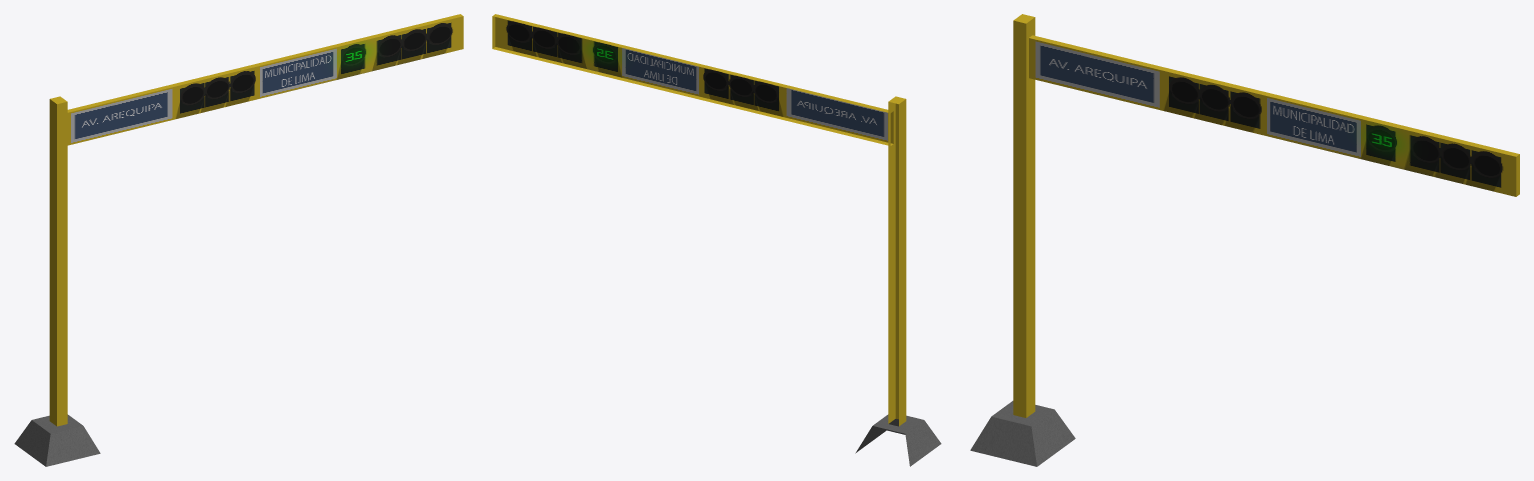
File: SEMAFORO.FBX
3 views of the same model, side by side, from view 1: azimuth 30°, elevation 25°; view 2: azimuth 150°, elevation 25°; view 3: azimuth 330°, elevation 25° (orthographic). The views are drawn at different scales.
Visible parts, largest first — view 1: Box017; view 2: Box017; view 3: Box017.
Boxes of the visible parts, x1,y1,x2,y2 form: Box017: [14, 14, 463, 466]; Box017: [492, 14, 941, 466]; Box017: [970, 14, 1519, 466].
Bounding box in the file's own units: 396 × 305 × 50.18.
Materials: 1 (1 with a texture image).
